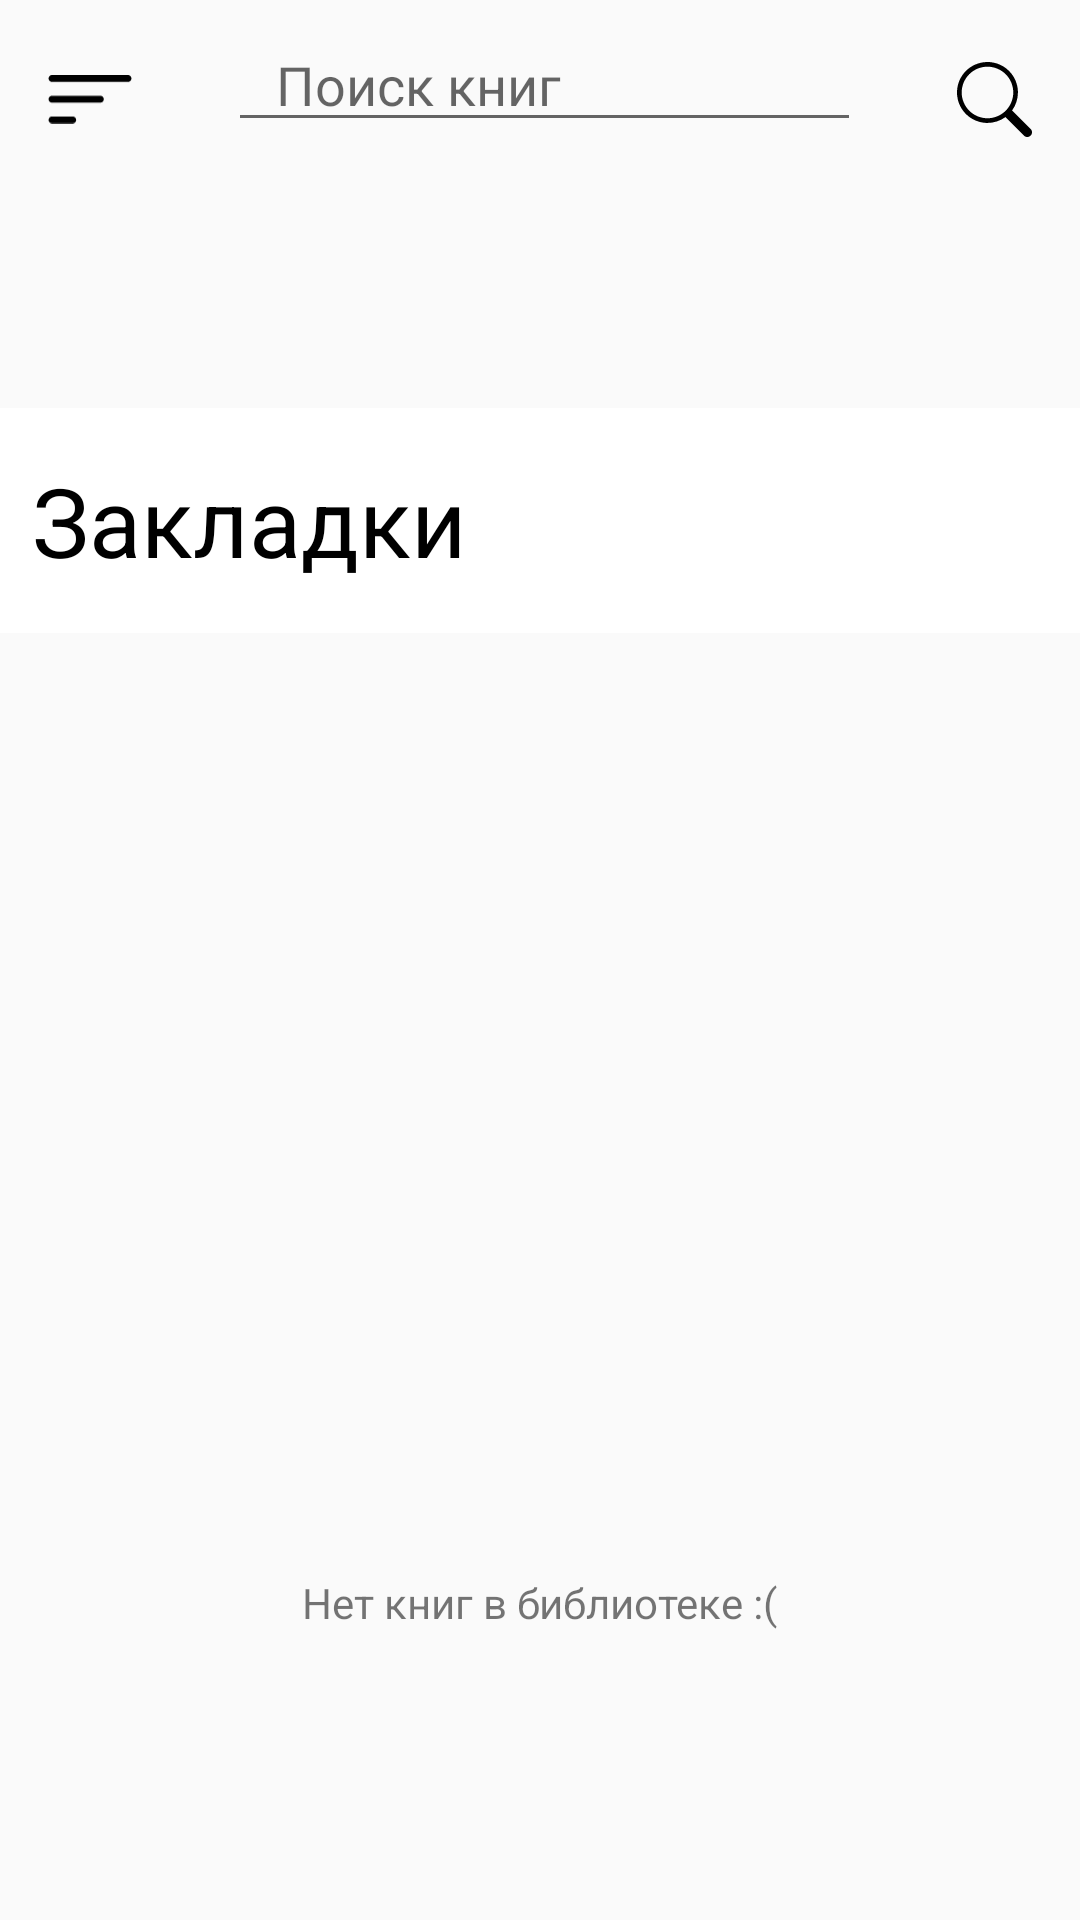

Screen size 1080 × 1920. Icon name, then its center in pixels as (x,y):
menu: (90,99)
search: (994,99)
